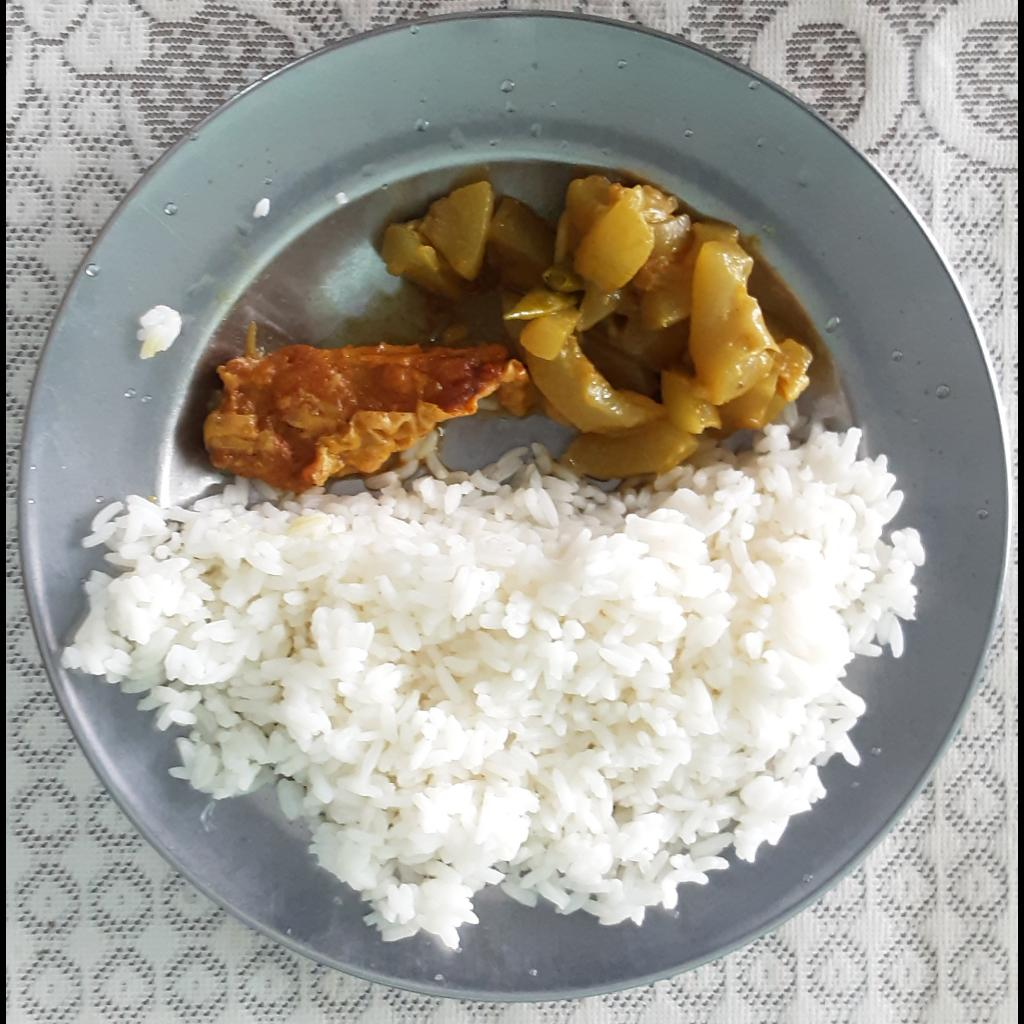chichinga-vaji: (378, 175, 813, 477)
fish: (201, 342, 547, 490)
rice: (61, 400, 929, 954)
